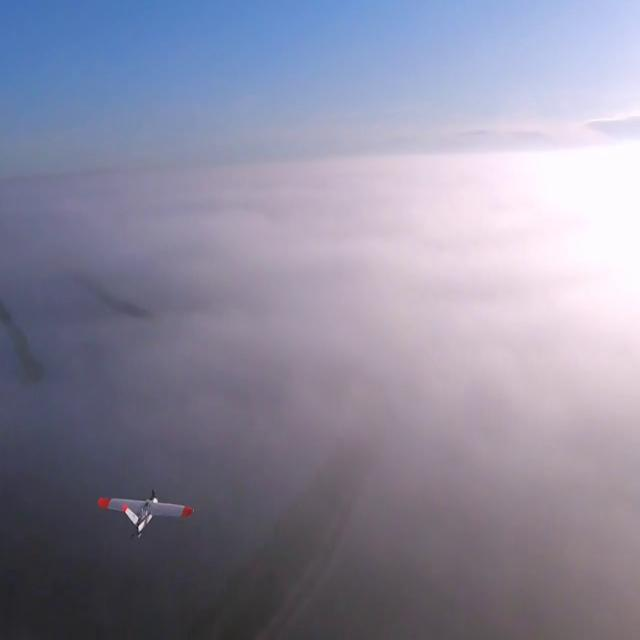iha: (128, 488, 164, 544)
